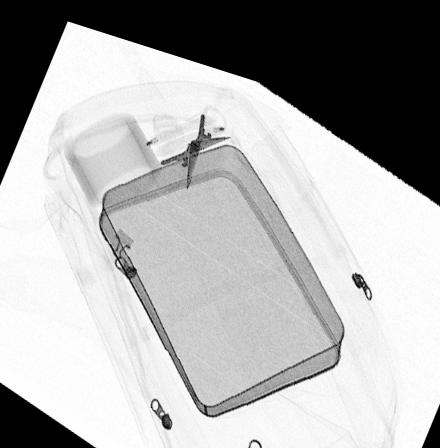Scissors: (158, 100, 234, 181)
